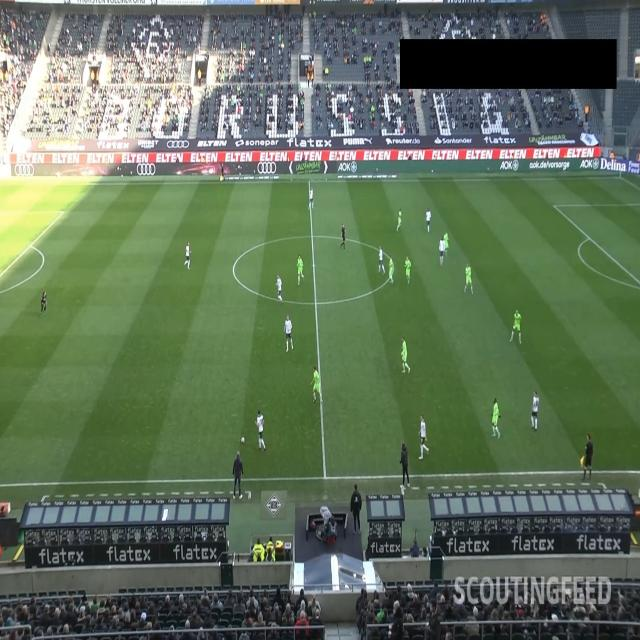ball: (241, 436, 245, 444)
